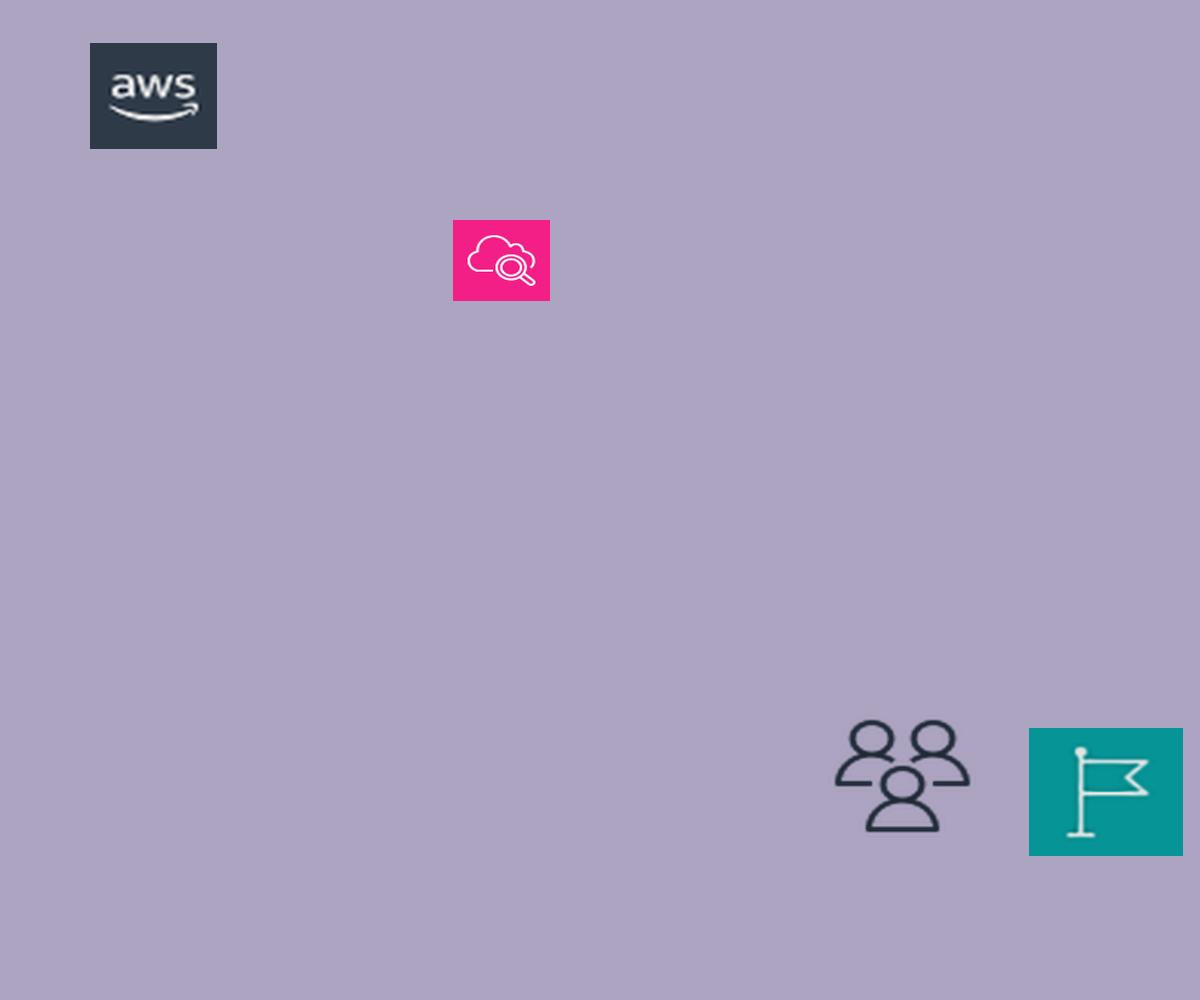AWS-Cloud-logo: (90, 43, 217, 149)
AWS-CloudWatch: (453, 220, 550, 301)
AWS-Region: (1029, 728, 1183, 856)
AWS-Res_Users: (829, 715, 976, 837)
